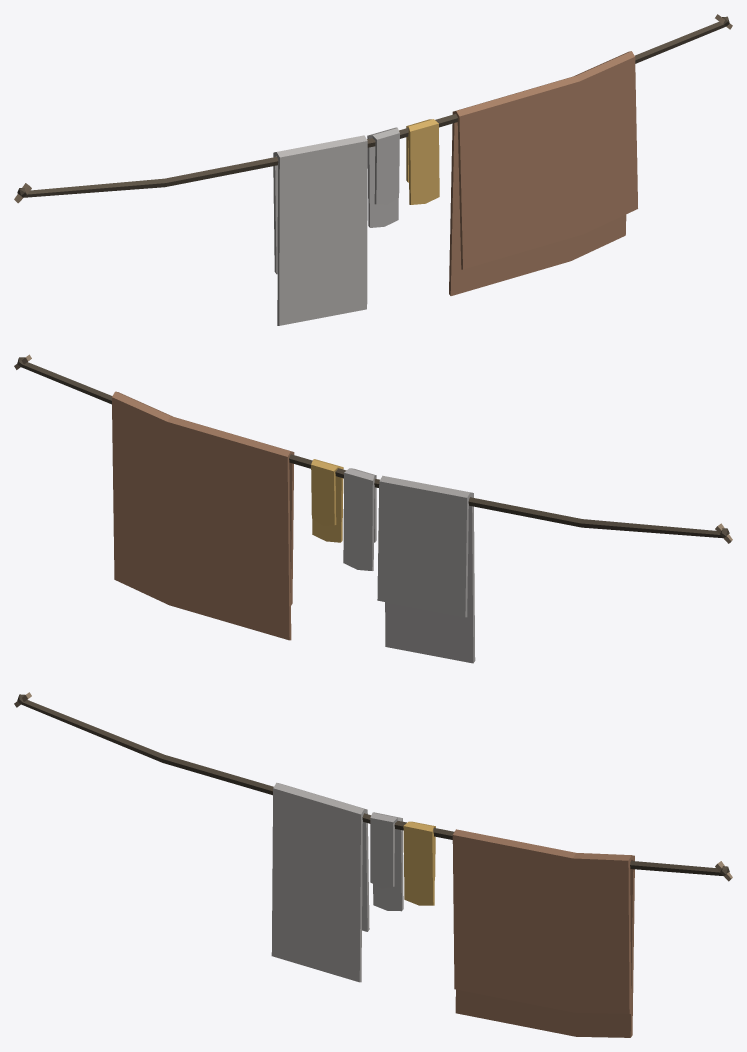
File: SM_Prop_Washingline_01.fbx
3 renders of one model, top to bottom at view 1: azimuth 30°, elevation 25°; view 2: azimuth 150°, elevation 25°; view 3: azimuth 330°, elevation 25°, orthographic.
Parts seen in each view (by area): view 1: SM_Prop_Washingline_01; view 2: SM_Prop_Washingline_01; view 3: SM_Prop_Washingline_01.
Boxes of the visible parts, x1,y1,x2,y2 form: SM_Prop_Washingline_01: [14, 14, 732, 325]; SM_Prop_Washingline_01: [14, 354, 732, 663]; SM_Prop_Washingline_01: [14, 692, 732, 1037].
Bounding box in the file's own units: 691 × 200 × 14.34.
